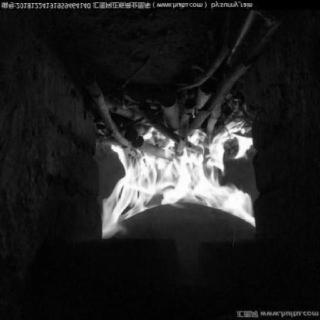Fire: (98, 124, 256, 240)
